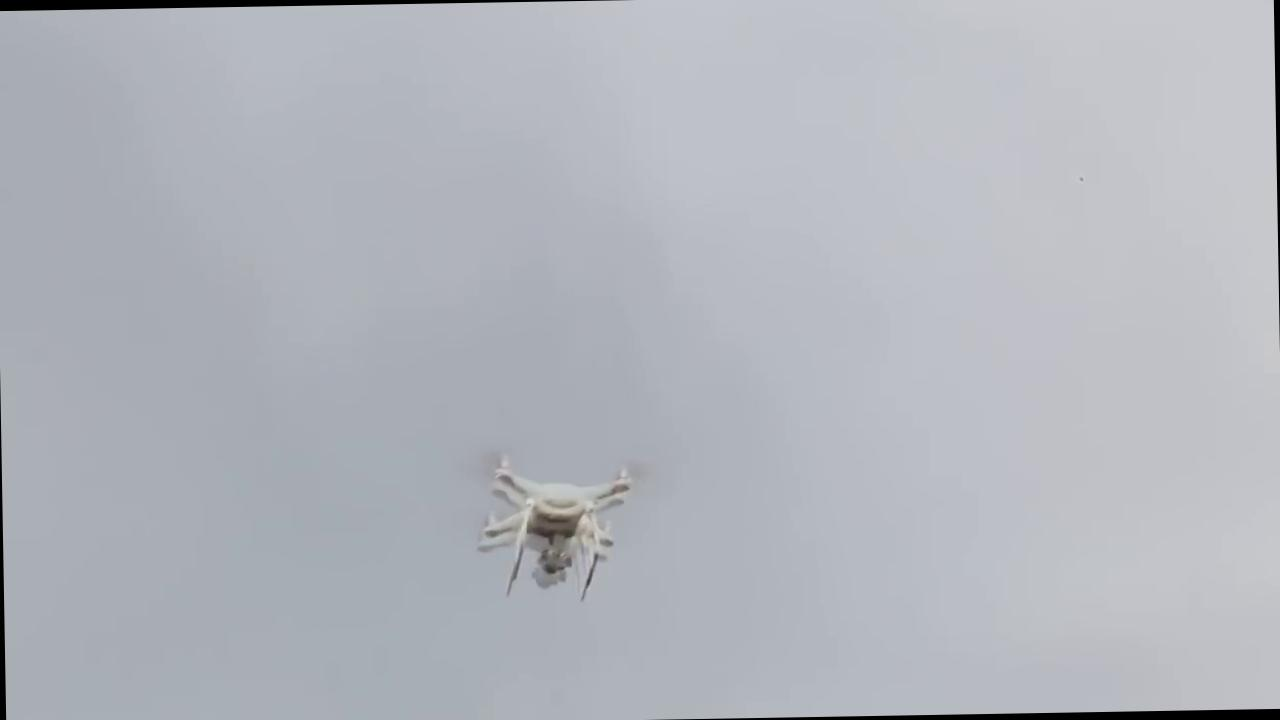drone: (458, 447, 654, 593)
